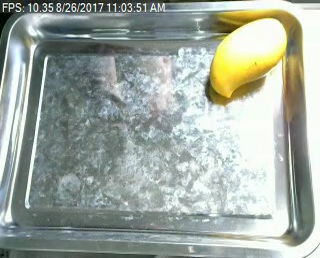Mango: (207, 10, 293, 102)
